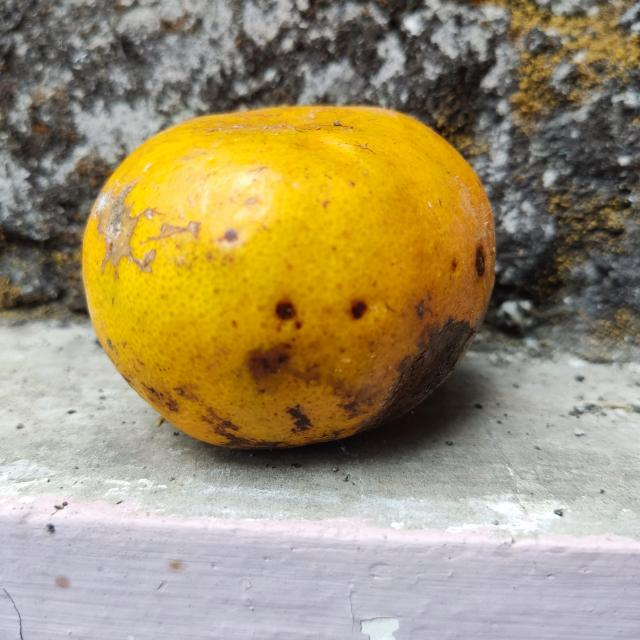orange: (81, 107, 494, 451)
